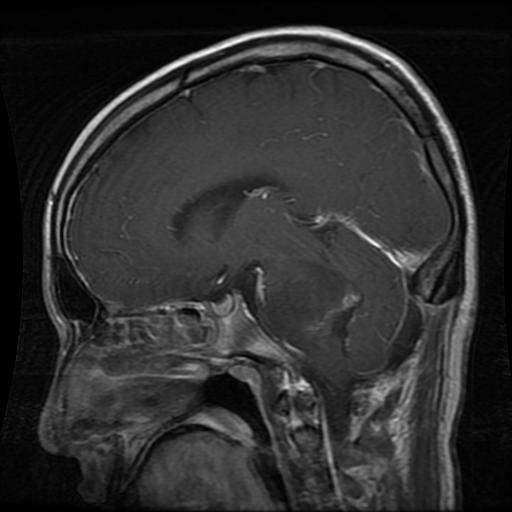Gliomia_tumour: (258, 262, 358, 330)
